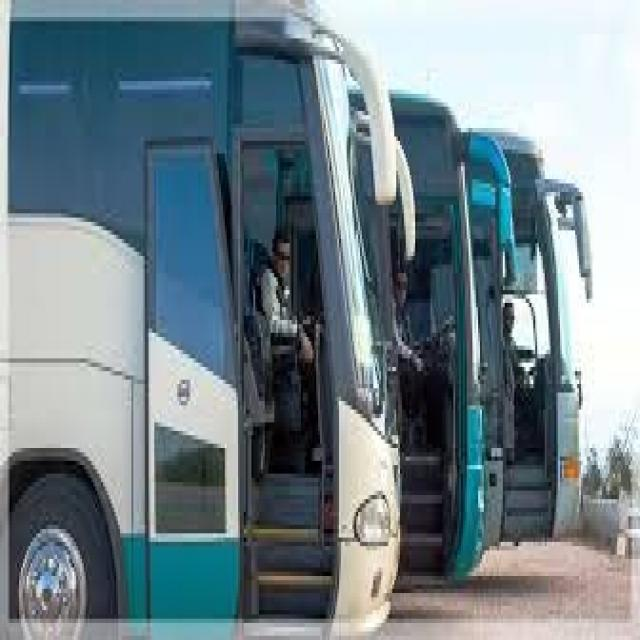bus: (0, 0, 417, 640), (397, 85, 518, 595), (494, 124, 595, 532)
